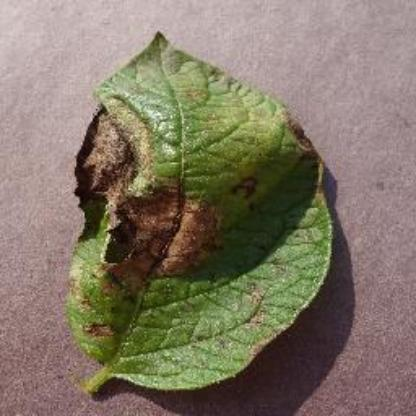Late-Blight: (45, 27, 365, 409)
